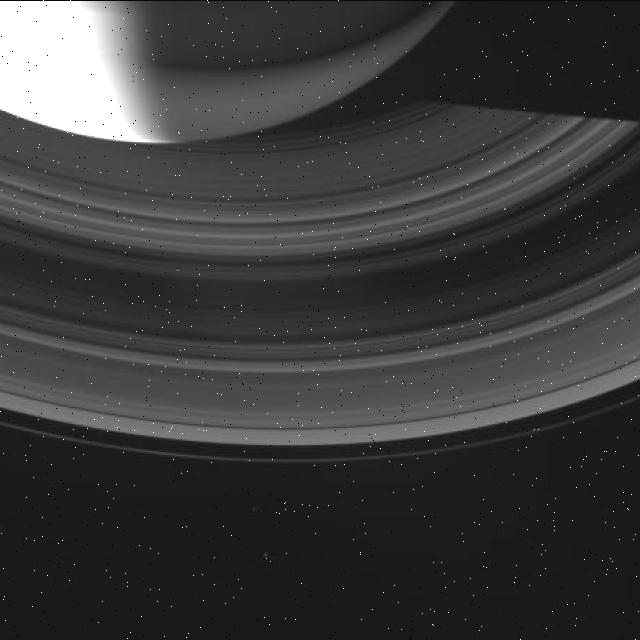Saturn: (0, 0, 640, 468)
